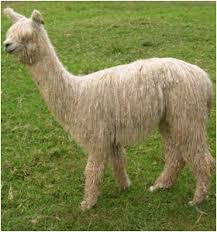alpaca: (2, 5, 213, 210)
